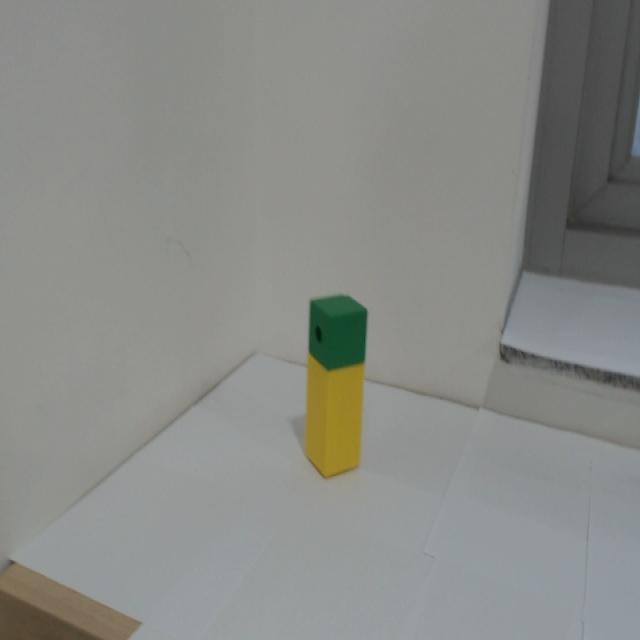cube: (298, 283, 368, 378)
